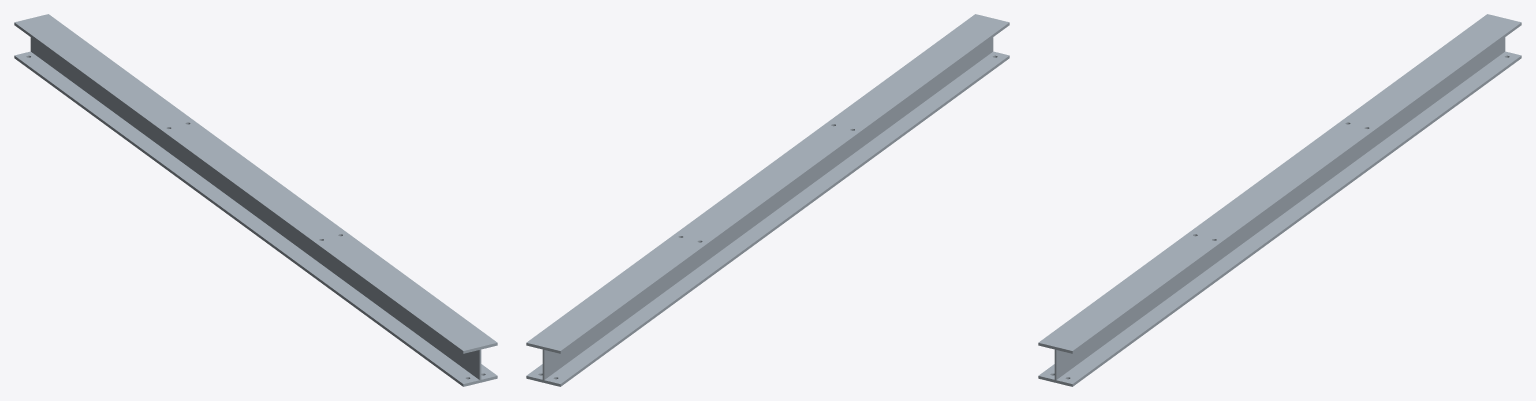
The model's file is shop_s010001.gltf.
The picture shows the model from 3 angles, left to right: view 1: azimuth 30°, elevation 25°; view 2: azimuth 150°, elevation 25°; view 3: azimuth 330°, elevation 25°; orthographic projection.
Visible parts, largest first — view 1: 100011_HEB180; view 2: 100011_HEB180; view 3: 100011_HEB180.
Boxes of the visible parts, bbox=[...] form: 100011_HEB180: bbox=[14, 14, 497, 386]; 100011_HEB180: bbox=[526, 14, 1009, 386]; 100011_HEB180: bbox=[1038, 14, 1521, 386].
Size of the model in its own units: 0.18 by 0.18 by 4.08.
